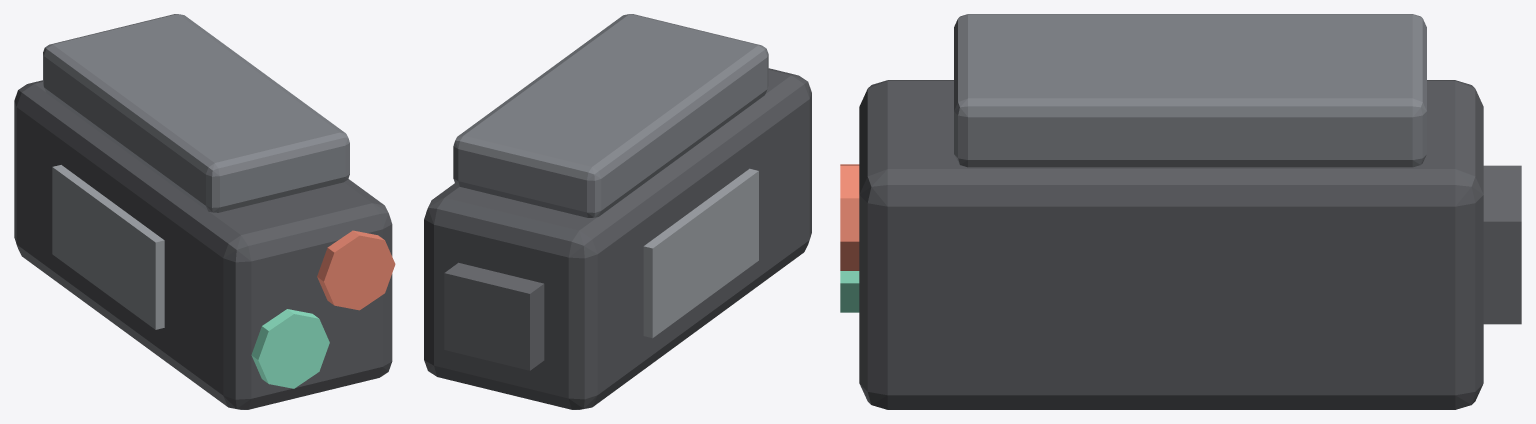
Rendered from att_laser.fbx.
The picture shows the model from 3 angles, left to right: view 1: azimuth 30°, elevation 25°; view 2: azimuth 150°, elevation 25°; view 3: azimuth 270°, elevation 25°; orthographic projection. The views are drawn at different scales.
Visible parts, largest first — view 1: att_laser; view 2: att_laser; view 3: att_laser.
Boxes of the visible parts, bbox=[...] form: att_laser: bbox=[14, 14, 395, 409]; att_laser: bbox=[424, 14, 811, 409]; att_laser: bbox=[840, 14, 1521, 409].
Size of the model in its own units: 0.0295 by 0.036 by 0.072.
